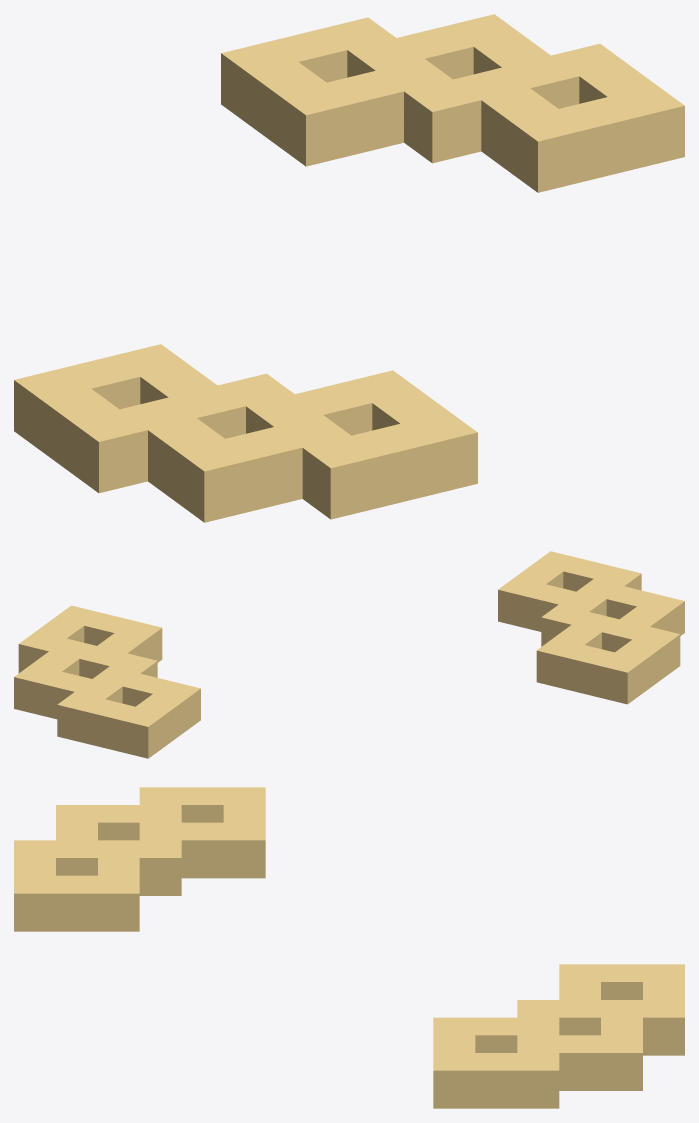
Rendered from BS_Pillar_Ring_3.fbx.
3 views of the same model, one above another, from view 1: azimuth 30°, elevation 25°; view 2: azimuth 150°, elevation 25°; view 3: azimuth 270°, elevation 25° (orthographic). The views are drawn at different scales.
Visible parts, largest first — view 1: BS_Pillar_Ring_3; view 2: BS_Pillar_Ring_3; view 3: BS_Pillar_Ring_3.
Boxes of the visible parts, box(x1,y1,x2,y2) form: BS_Pillar_Ring_3: box(14, 14, 684, 522); BS_Pillar_Ring_3: box(14, 551, 684, 758); BS_Pillar_Ring_3: box(14, 787, 684, 1108).
Bounding box in the file's own units: 40 × 40 × 2.5.
